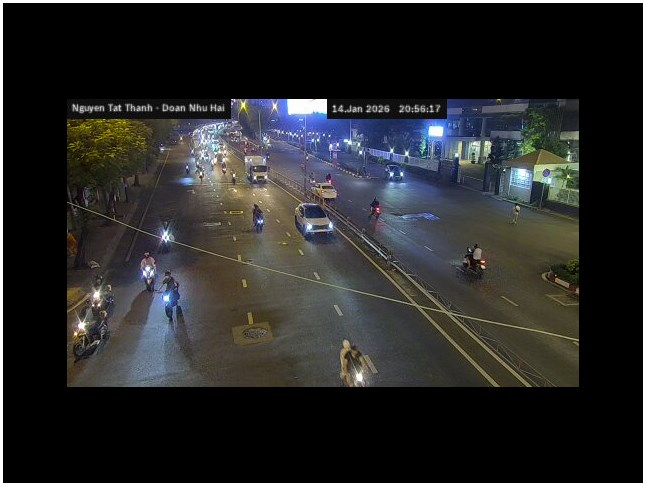car: (339, 338, 380, 387), (294, 203, 337, 242), (175, 176, 196, 187)
truck: (245, 156, 269, 184)
